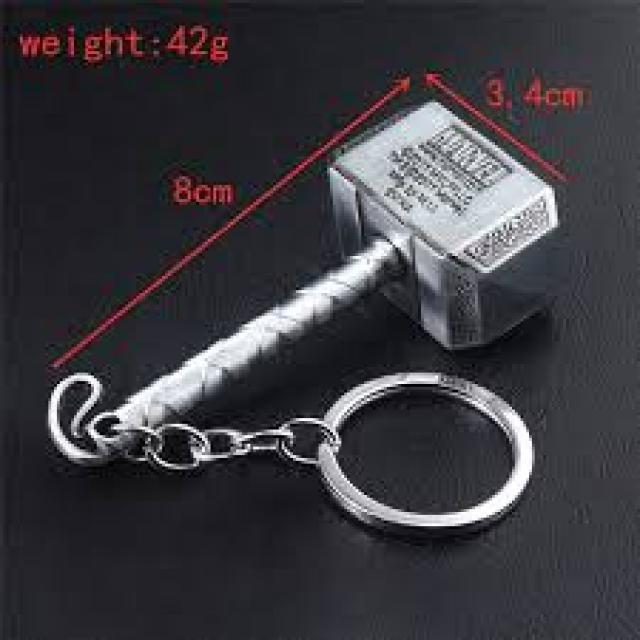hammer: (70, 82, 564, 478)
